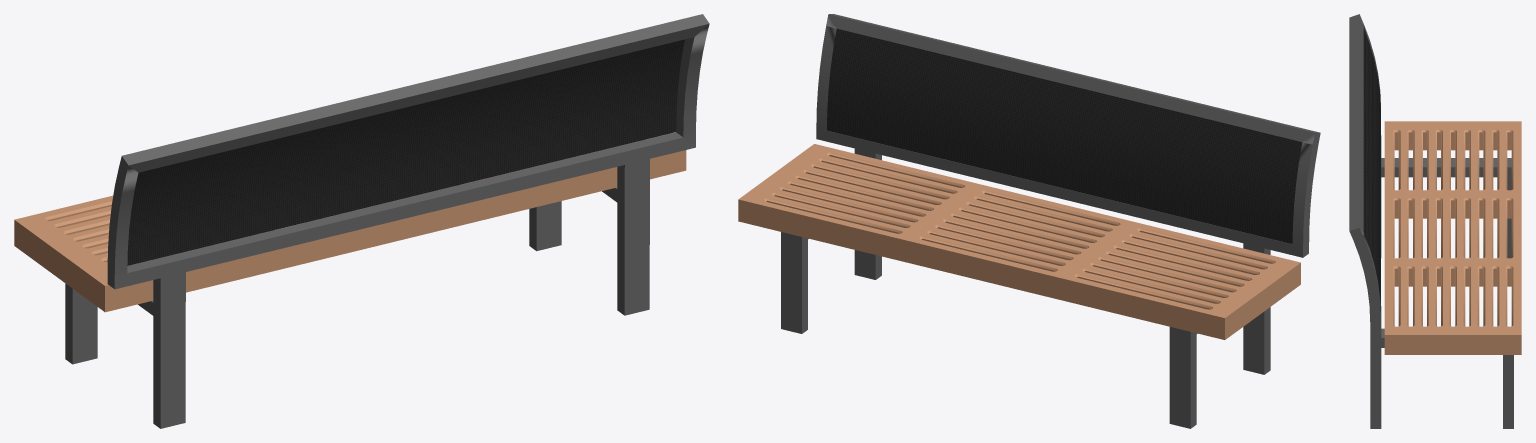
3 renders of one model, left to right at view 1: azimuth 30°, elevation 25°; view 2: azimuth 150°, elevation 25°; view 3: azimuth 270°, elevation 25°, orthographic. The views are drawn at different scales.
Visible parts, largest first — view 1: mesh64_mesh64-geometry, mesh1_mesh1-geometry, mesh62_mesh62-geometry, mesh62_mesh62-geometry_1, mesh65_mesh65-geometry_1, mesh65_mesh65-geometry, mesh60_mesh60-geometry, mesh58_mesh58-geometry, mesh57_mesh57-geometry_2, mesh57_mesh57-geometry; view 2: mesh64_mesh64-geometry, mesh1_mesh1-geometry, mesh62_mesh62-geometry, mesh62_mesh62-geometry_1, mesh57_mesh57-geometry_2, mesh57_mesh57-geometry, mesh60_mesh60-geometry, mesh65_mesh65-geometry_1, mesh58_mesh58-geometry, mesh65_mesh65-geometry; view 3: mesh1_mesh1-geometry, mesh64_mesh64-geometry, mesh62_mesh62-geometry, mesh58_mesh58-geometry, mesh65_mesh65-geometry, mesh65_mesh65-geometry_1, mesh57_mesh57-geometry, mesh57_mesh57-geometry_2.
Part boxes in pixels (x1,y1,x2,y2): mesh64_mesh64-geometry: (127,39,684,265); mesh1_mesh1-geometry: (14,133,686,312); mesh62_mesh62-geometry: (122,14,709,172); mesh62_mesh62-geometry_1: (115,132,695,289); mesh65_mesh65-geometry_1: (138,272,185,428); mesh65_mesh65-geometry: (602,159,649,315); mesh60_mesh60-geometry: (107,156,138,289); mesh58_mesh58-geometry: (676,24,709,147); mesh57_mesh57-geometry_2: (65,283,97,364); mesh57_mesh57-geometry: (529,201,561,251); mesh64_mesh64-geometry: (827,28,1302,243); mesh1_mesh1-geometry: (738,144,1300,339); mesh62_mesh62-geometry: (828,14,1319,141); mesh62_mesh62-geometry_1: (816,130,1302,257); mesh57_mesh57-geometry_2: (1169,327,1196,428); mesh57_mesh57-geometry: (781,232,807,333); mesh60_mesh60-geometry: (1292,132,1320,257); mesh65_mesh65-geometry_1: (1196,243,1270,374); mesh58_mesh58-geometry: (816,14,836,138); mesh65_mesh65-geometry: (807,148,881,279); mesh1_mesh1-geometry: (1384,121,1521,354); mesh64_mesh64-geometry: (1363,29,1380,310); mesh62_mesh62-geometry: (1349,14,1363,231); mesh58_mesh58-geometry: (1349,227,1380,332); mesh65_mesh65-geometry: (1370,306,1384,428); mesh65_mesh65-geometry_1: (1381,135,1511,257); mesh57_mesh57-geometry: (1503,355,1513,428); mesh57_mesh57-geometry_2: (1507,170,1511,258).
Bounding box in the file's own units: 0.863 × 0.411 × 0.2938.
4 materials, 1 textured.
